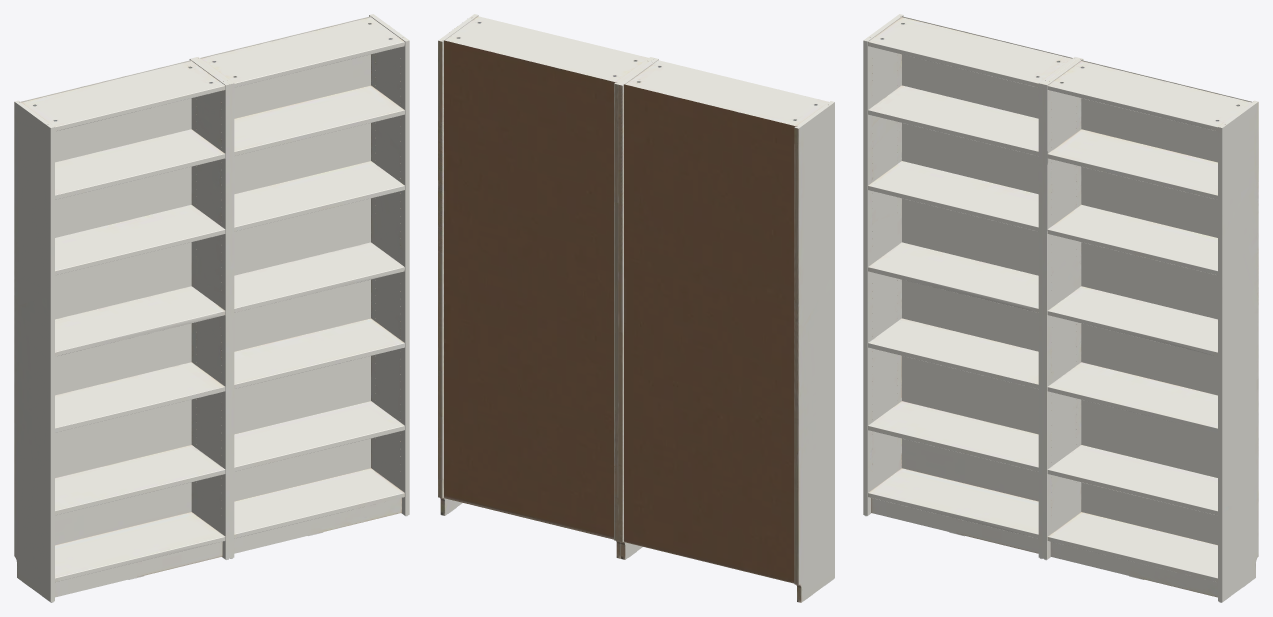
3 renders of one model, left to right at view 1: azimuth 30°, elevation 25°; view 2: azimuth 150°, elevation 25°; view 3: azimuth 330°, elevation 25°, orthographic.
Parts seen in each view (by area): view 1: Mesh_13781809891860639151.001; view 2: Mesh_13781809891860639151.001; view 3: Mesh_13781809891860639151.001.
Boxes of the visible parts, x1=… form: Mesh_13781809891860639151.001: x1=14, y1=14, x2=409, y2=602; Mesh_13781809891860639151.001: x1=438, y1=14, x2=834, y2=602; Mesh_13781809891860639151.001: x1=863, y1=14, x2=1258, y2=602.
Bounding box in the file's own units: 1.6 × 2.03 × 0.2801.
2 materials, 1 textured.
